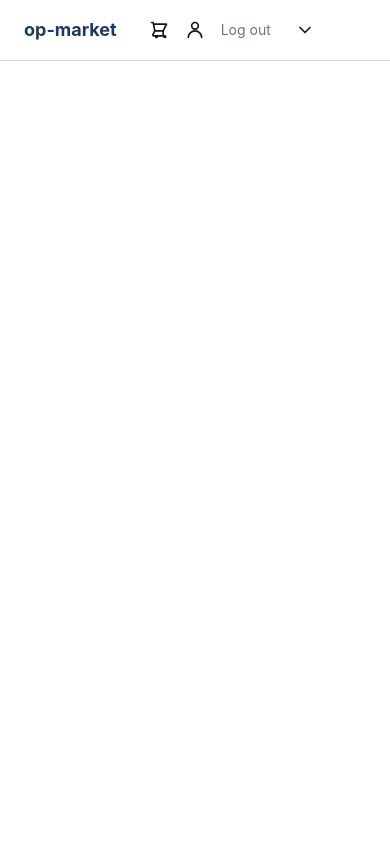
Header › mobile menu › clicking the toggle opens the menu: shows the overlay and flips aria-expanded
The width and height of the screenshot is (390, 844).
What coordinates should you click on to do the following:
click the button named "Open menu"
I would click on:
 (305, 30)
Its box is [287,12,323,48].
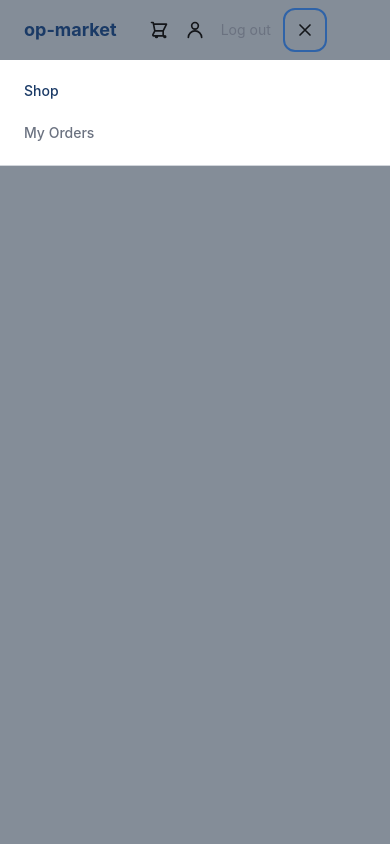
Now the element with test id "mobile-nav-overlay" is shown
Now the button named "Close menu" is expanded, box [287,12,323,48]
